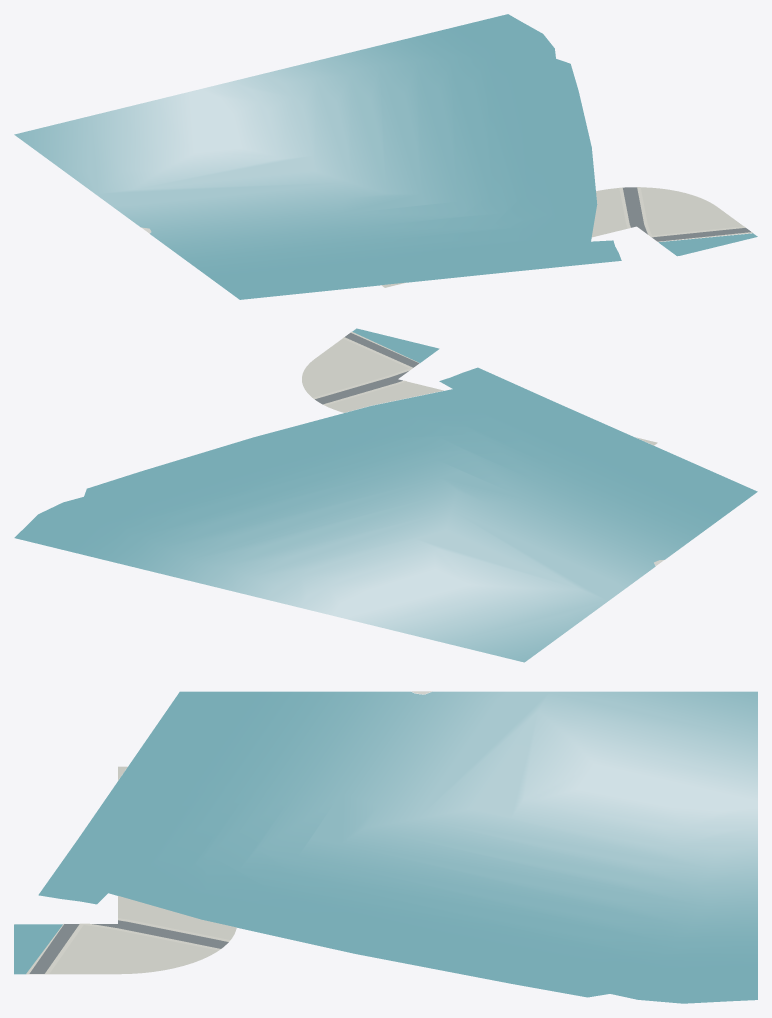
The picture shows the model from 3 angles, top to bottom: view 1: azimuth 30°, elevation 25°; view 2: azimuth 150°, elevation 25°; view 3: azimuth 270°, elevation 25°; orthographic projection. The views are drawn at different scales.
Visible parts, largest first — view 1: city; view 2: city; view 3: city.
Part boxes in pixels (left/top/right/bottom): city: left=14, top=14, right=757, bottom=299; city: left=14, top=328, right=757, bottom=662; city: left=14, top=691, right=757, bottom=1003.
Bounding box in the file's own units: 497 × 0.4 × 500.
